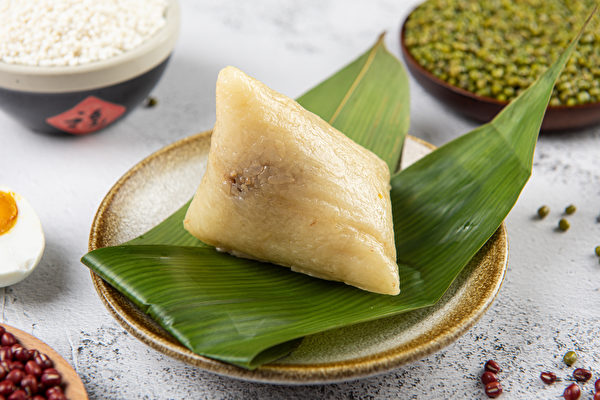zongzi: (184, 67, 399, 294)
